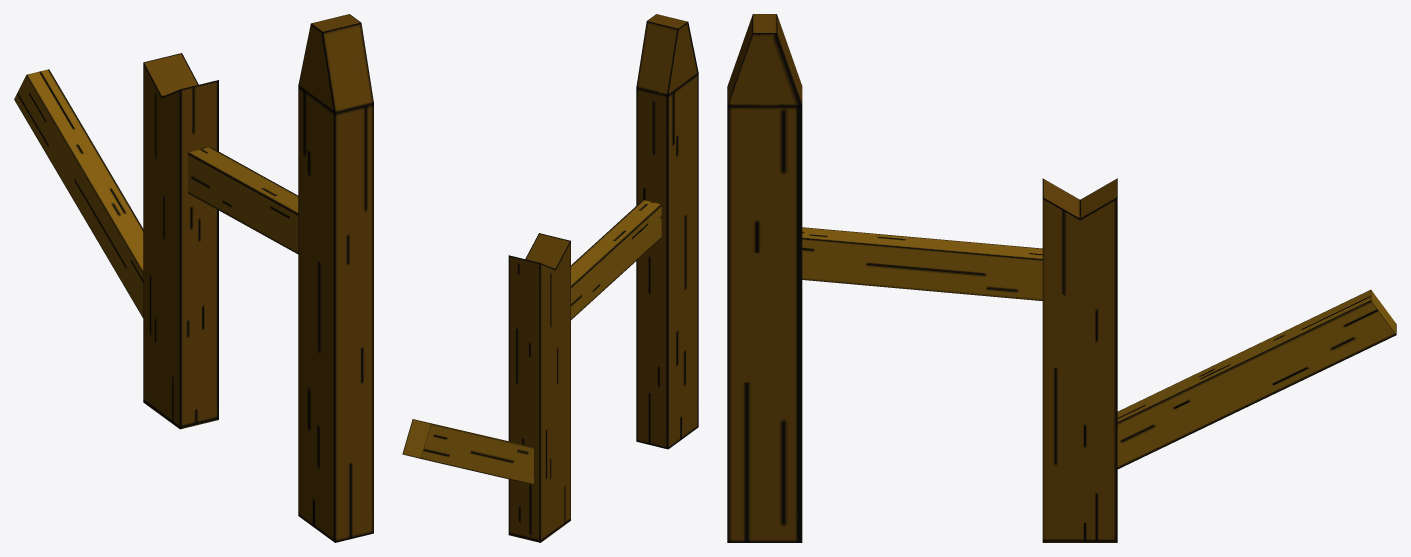
Rendered from Fence2_2_Part.glb.
The picture shows the model from 3 angles, left to right: view 1: azimuth 30°, elevation 25°; view 2: azimuth 150°, elevation 25°; view 3: azimuth 270°, elevation 25°; orthographic projection. The views are drawn at different scales.
Parts seen in each view (by area): view 1: Fence2_2_Part; view 2: Fence2_2_Part; view 3: Fence2_2_Part.
Part boxes in pixels (x1,y1,x2,y2): Fence2_2_Part: (14,14,373,542); Fence2_2_Part: (402,14,698,542); Fence2_2_Part: (727,14,1396,542).
Bounding box in the file's own units: 0.1443 × 1.78 × 2.12.
Materials: 1 (1 with a texture image).
